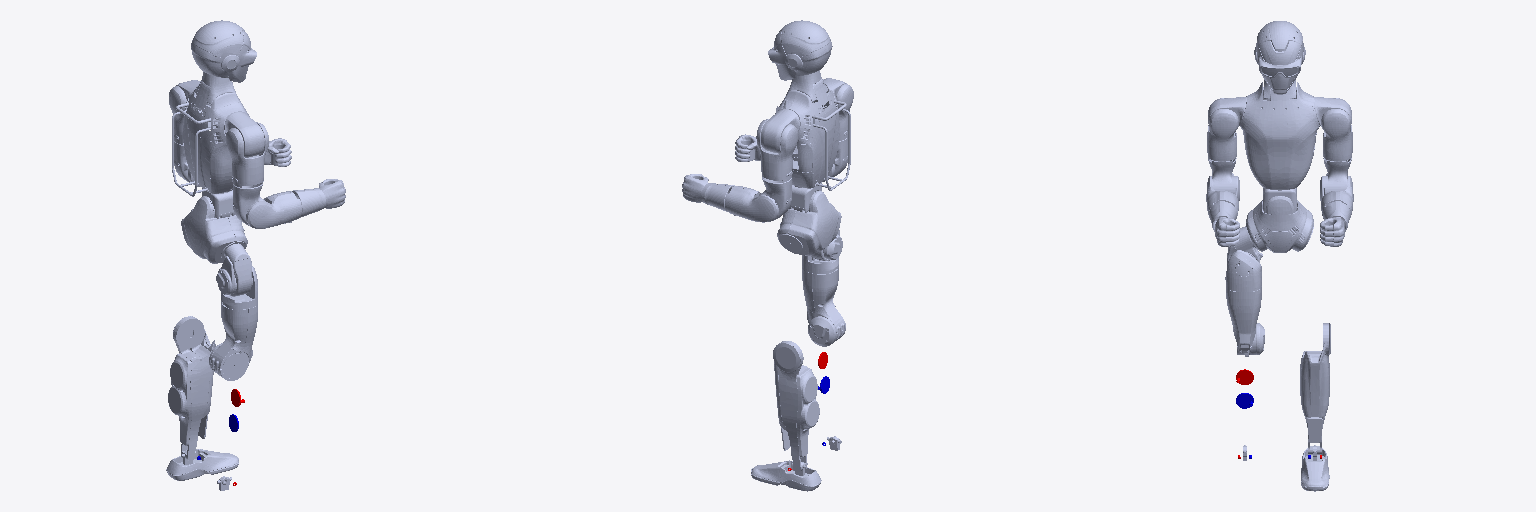
--- Facts derived from the render (not from the file) ---
3 views of the same robot in one strip: view 1: azimuth 30°, elevation 25°; view 2: azimuth 150°, elevation 25°; view 3: azimuth 270°, elevation 25° (orthographic).
Robot: R1 — 40 links, 39 joints (26 revolute, 13 fixed); root link pelvis_link; default pose: all joints at 0.
Visible links, largest first — view 1: waist_yaw_link, left_knee_link, head_yaw_link, pelvis_link, right_hip_yaw_link, right_shoulder_roll_link, right_elbow_link, right_hip_pitch_link, left_ankle_roll_link, right_wrist_roll_link, right_shoulder_pitch_link, right_shoulder_yaw_link (+5 smaller); view 2: waist_yaw_link, left_knee_link, head_yaw_link, pelvis_link, right_hip_yaw_link, left_shoulder_roll_link, left_elbow_link, left_ankle_roll_link, left_wrist_roll_link, left_shoulder_pitch_link, left_shoulder_yaw_link, right_wrist_roll_link (+3 smaller); view 3: waist_yaw_link, pelvis_link, head_yaw_link, left_knee_link, right_hip_yaw_link, left_shoulder_roll_link, right_shoulder_roll_link, right_hip_roll_link, left_wrist_roll_link, right_wrist_roll_link, left_ankle_roll_link, left_shoulder_yaw_link (+3 smaller).
Link boxes in pixels (x1,y1,x2,y2): waist_yaw_link: (172,81,249,196); left_knee_link: (168,316,215,460); head_yaw_link: (191,20,256,82); pelvis_link: (181,196,247,263); right_hip_yaw_link: (209,304,257,380); right_shoulder_roll_link: (226,122,268,187); right_elbow_link: (247,191,301,228); right_hip_pitch_link: (216,243,252,296); left_ankle_roll_link: (166,449,238,480); right_wrist_roll_link: (292,179,345,217); right_shoulder_pitch_link: (224,112,264,157); right_shoulder_yaw_link: (233,181,264,226); waist_yaw_link: (775,79,850,190); left_knee_link: (773,341,819,472); head_yaw_link: (768,20,832,80); pelvis_link: (777,191,841,255); right_hip_yaw_link: (802,268,845,346); left_shoulder_roll_link: (756,119,797,182); left_elbow_link: (725,186,777,222); left_ankle_roll_link: (751,460,821,491); left_wrist_roll_link: (682,174,734,211); left_shoulder_pitch_link: (761,109,799,153); left_shoulder_yaw_link: (759,177,791,220); right_wrist_roll_link: (735,134,760,161); waist_yaw_link: (1240,82,1319,190); pelvis_link: (1246,196,1313,252); head_yaw_link: (1254,21,1305,94); left_knee_link: (1300,323,1330,453); right_hip_yaw_link: (1226,287,1264,356); left_shoulder_roll_link: (1321,98,1352,161); right_shoulder_roll_link: (1207,98,1238,161); right_hip_roll_link: (1225,250,1261,291); left_wrist_roll_link: (1320,201,1350,246); right_wrist_roll_link: (1209,201,1239,246); left_ankle_roll_link: (1301,448,1329,491); left_shoulder_yaw_link: (1320,158,1351,200).
Size in the robot's own frame: 0.3691 by 0.3625 by 1.23 metres.
Meshes: 40 distinct files referenced, 32 mesh visuals loaded (32 binary STL); not drawn: 8 (reference not matched to a file when rendering).

robot.urdf — R1:
<robot name="R1">
  <mujoco>
    <compiler meshdir="meshes" discardvisual="false"/>
  </mujoco>

  <!-- <link name="world"></link>
  <joint name="floating_base_joint" type="floating">
    <parent link="world"/>
    <child link="pelvis_link"/>
  </joint> -->

  <link name="pelvis_link">
    <inertial>
      <origin xyz="0.026921 0.000184 -0.070405" rpy="0 0 0"/>
      <mass value="2.24682"/>
      <inertia ixx="0.006461" ixy="5e-06" ixz="3.7e-05" iyy="0.00381" iyz="-1.2e-05" izz="0.006198"/>
    </inertial>
    <visual>
      <origin xyz="0 0 0" rpy="0 0 0"/>
      <geometry>
        <mesh filename="meshes/pelvis_link.STL"/>
      </geometry>
      <material name="blue">
        <color rgba="0.79216 0.81961 0.93333 1"/>
      </material>
    </visual>
    <collision>
      <origin xyz="0 0 0" rpy="0 0 0"/>
      <geometry>
        <mesh filename="meshes/pelvis_link.STL"/>
      </geometry>
    </collision>
  </link>
  <link name="left_hip_pitch_link">
    <inertial>
      <origin xyz="-0.003907 0.0415 -0.043716" rpy="0 0 0"/>
      <mass value="0.935482"/>
      <inertia ixx=" 0.001046" ixy="2.2e-05" ixz="-3.1e-05" iyy="0.000943" iyz="0.000145" izz="0.000624"/>
    </inertial>
    <visual>
      <origin xyz="0 0 0" rpy="0 0 0"/>
      <geometry>
        <mesh filename="meshes/left_hip_pitch_link.STL"/>
      </geometry>
      <material name="blue">
        <color rgba="0.79216 0.81961 0.93333 1"/>
      </material>
    </visual>
    <collision>
      <origin xyz="0 0 0" rpy="0 0 0"/>
      <geometry>
        <mesh filename="meshes/left_hip_pitch_link.STL"/>
      </geometry>
    </collision>
  </link>
  <joint name="left_hip_pitch_joint" type="revolute">
    <origin xyz="0.0325000000000034 0.0704672446672152 -0.0902350676234607" rpy="-0.436332312998619 0 0"/>
    <parent link="pelvis_link"/>
    <child link="left_hip_pitch_link"/>
    <axis xyz="0 1 0"/>
    <limit lower="-2.932153143" upper="2.548180708" effort="60" velocity="18.8"/>
  </joint>
  <link name="left_hip_roll_link">
    <inertial>
      <origin xyz="-0.008002 -0.00206 -0.032798" rpy="0 0 0"/>
      <mass value=" 0.207609"/>
      <inertia ixx="0.000246" ixy="-1.3e-05" ixz="-5.6e-05" iyy="0.000231" iyz="-1e-05" izz="0.000239"/>
    </inertial>
    <visual>
      <origin xyz="0 0 0" rpy="0 0 0"/>
      <geometry>
        <mesh filename="meshes/left_hip_roll_link.STL"/>
      </geometry>
      <material name="blue">
        <color rgba="0.79216 0.81961 0.93333 1"/>
      </material>
    </visual>
    <collision>
      <origin xyz="0 0 0" rpy="0 0 0"/>
      <geometry>
        <mesh filename="meshes/left_hip_roll_link.STL"/>
      </geometry>
    </collision>
  </link>
  <joint name="left_hip_roll_joint" type="revolute">
    <origin xyz="0.0248000000000053 0.0449999999999981 -0.0530000000000006" rpy="0.436332312998619 0 0"/>
    <parent link="left_hip_pitch_link"/>
    <child link="left_hip_roll_link"/>
    <axis xyz="1 0 0"/>
    <limit lower="-1.047197551" upper="1.745329252" effort="60" velocity="18.8"/>
  </joint>
  <link name="left_hip_yaw_link">
    <inertial>
      <origin xyz="-0.010059 -0.004848 -0.093609" rpy="0 0 0"/>
      <mass value="1.73967"/>
      <inertia ixx="0.008099" ixy=" -0.000112" ixz="-0.001134" iyy="0.008338" iyz="-0.00058" izz="0.001513"/>
    </inertial>
    <visual>
      <origin xyz="0 0 0" rpy="0 0 0"/>
      <geometry>
        <mesh filename="meshes/left_hip_yaw_link.STL"/>
      </geometry>
      <material name="blue">
        <color rgba="0.79216 0.81961 0.93333 1"/>
      </material>
    </visual>
    <collision>
      <origin xyz="0 0 0" rpy="0 0 0"/>
      <geometry>
        <mesh filename="meshes/left_hip_yaw_link.STL"/>
      </geometry>
    </collision>
  </link>
  <joint name="left_hip_yaw_joint" type="revolute">
    <origin xyz="-0.0194507071014726 -0.000599999999990775 -0.0617999999999937" rpy="0 0 0"/>
    <parent link="left_hip_roll_link"/>
    <child link="left_hip_yaw_link"/>
    <axis xyz="0 0 1"/>
    <limit lower="-2.7402" upper="2.7402" effort="60" velocity="18.8"/>
  </joint>
  <link name="left_knee_link">
    <inertial>
      <origin xyz="-0.010632 -0.018101 -0.135947" rpy="0 0 0"/>
      <mass value="2.26585"/>
      <inertia ixx="0.01237" ixy="-4.4e-05" ixz="-0.000238" iyy="0.012604" iyz=" -0.000603" izz=" 0.001907"/>
    </inertial>
    <visual>
      <origin xyz="0 0 0" rpy="0 0 0"/>
      <geometry>
        <mesh filename="meshes/left_knee_link.STL"/>
      </geometry>
      <material name="blue">
        <color rgba="0.79216 0.81961 0.93333 1"/>
      </material>
    </visual>
    <collision>
      <origin xyz="0 0 0" rpy="0 0 0"/>
      <geometry>
        <mesh filename="meshes/left_knee_collision.STL"/>
      </geometry>
    </collision>
  </link>
  <joint name="left_knee_joint" type="revolute">
    <origin xyz="-0.0231499999999827 0.0186600000000101 -0.159300730044995" rpy="0 0 0"/>
    <parent link="left_hip_yaw_link"/>
    <child link="left_knee_link"/>
    <axis xyz="0 1 0"/>
    <limit lower="-0.174532925" upper="2.42600766" effort="60" velocity="18.8"/>
  </joint>
  <link name="left_ankle_A_link">
    <inertial>
      <origin xyz="0.002876 0.004712 -0.001192" rpy="0 0 0"/>
      <mass value="0.047549"/>
      <inertia ixx="1.4e-05" ixy="0" ixz="0" iyy="6e-06" iyz="1e-06" izz="9e-06"/>
    </inertial>
    <visual>
      <origin xyz="0 0 0" rpy="0 0 0"/>
      <geometry>
        <mesh filename="meshes/left_ankle_A_link.STL"/>
      </geometry>
      <material name="A">
        <color rgba="1 0 0 1"/>
      </material>
    </visual>
    <collision>
      <origin xyz="0 0 0" rpy="0 0 0"/>
      <geometry>
        <mesh filename="meshes/left_ankle_A_link.STL"/>
      </geometry>
    </collision>
  </link>
  <joint name="left_ankle_A_joint" type="fixed">
    <origin xyz="0.0137908367226444 -0.020581073000019 -0.0965262033774272" rpy="0 0.0893608577021168 0"/>
    <parent link="left_knee_link"/>
    <child link="left_ankle_A_link"/>
    <axis xyz="1 0 0"/>
    <limit lower="-0.89675" upper="1.4099" effort="33" velocity="33.4"/>
  </joint>
  <link name="left_ankle_A_rod_link">
    <inertial>
      <origin xyz="0 0 0" rpy="0 0 0"/>
      <mass value="0.006909"/>
      <inertia ixx="1e-11" ixy="0" ixz="0" iyy="1e-11" iyz="0" izz="1e-11"/>
    </inertial>
    <visual>
      <origin xyz="0 0 0" rpy="0 0 0"/>
      <geometry>
        <mesh filename="meshes/left_ankle_A_rod_link.STL"/>
      </geometry>
      <material name="A">
        <color rgba="1 0 0 1"/>
      </material>
    </visual>
  </link>
  <joint name="left_ankle_A_rod_joint" type="fixed">
    <origin xyz="0.0129999999999986 0.0159961931559284 -0.00404620865977823" rpy="0 0 0"/>
    <parent link="left_ankle_A_link"/>
    <child link="left_ankle_A_rod_link"/>
    <axis xyz="1 0 0"/>
    <limit lower="0" upper="0" effort="0" velocity="0"/>
  </joint>
  <link name="left_ankle_B_link">
    <inertial>
      <origin xyz="0.002876 -0.004711 -0.001195" rpy="0 0 0"/>
      <mass value="0.047549"/>
      <inertia ixx="1.4e-05" ixy="0" ixz="0" iyy="6e-06" iyz="-1e-06" izz=" 9e-06"/>
    </inertial>
    <visual>
      <origin xyz="0 0 0" rpy="0 0 0"/>
      <geometry>
        <mesh filename="meshes/left_ankle_B_link.STL"/>
      </geometry>
      <material name="B">
        <color rgba="0 0 1 1"/>
      </material>
    </visual>
    <collision>
      <origin xyz="0 0 0" rpy="0 0 0"/>
      <geometry>
        <mesh filename="meshes/left_ankle_B_link.STL"/>
      </geometry>
    </collision>
  </link>
  <joint name="left_ankle_B_joint" type="fixed">
    <origin xyz="0.0078562453629065 -0.0205810730000191 -0.162760866676519" rpy="0 0.0893608577021174 0"/>
    <parent link="left_knee_link"/>
    <child link="left_ankle_B_link"/>
    <axis xyz="1 0 0"/>
    <limit lower="-1.3999" upper="0.92328" effort="33" velocity="33.4"/>
  </joint>
  <link name="left_ankle_B_rod_link">
    <inertial>
      <origin xyz="0 0 0" rpy="0 0 0"/>
      <mass value="0.006909"/>
      <inertia ixx="1e-11" ixy="0" ixz="0" iyy="1e-11" iyz="0" izz="1e-11"/>
    </inertial>
    <visual>
      <origin xyz="0 0 0" rpy="0 0 0"/>
      <geometry>
        <mesh filename="meshes/left_ankle_B_rod_link.STL"/>
      </geometry>
      <material name="B">
        <color rgba="0 0 1 1"/>
      </material>
    </visual>
  </link>
  <joint name="left_ankle_B_rod_joint" type="fixed">
    <origin xyz="0.0129999999999971 -0.0159932565774738 -0.00405780039512127" rpy="0 0 0"/>
    <parent link="left_ankle_B_link"/>
    <child link="left_ankle_B_rod_link"/>
    <axis xyz="1 0 0"/>
    <limit lower="0" upper="0" effort="0" velocity="0"/>
  </joint>
  <link name="left_ankle_pitch_link">
    <inertial>
      <origin xyz="-0.000104 0 -0.00772" rpy="0 0 0"/>
      <mass value="0.071231"/>
      <inertia ixx="7e-06" ixy="0" ixz="0" iyy="1.2e-05" iyz="0" izz="7e-06"/>
    </inertial>
    <visual>
      <origin xyz="0 0 0" rpy="0 0 0"/>
      <geometry>
        <mesh filename="meshes/left_ankle_pitch_link.STL"/>
      </geometry>
      <material name="blue">
        <color rgba="0.79216 0.81961 0.93333 1"/>
      </material>
    </visual>
  </link>
  <joint name="left_ankle_pitch_joint" type="revolute">
    <origin xyz="-0.0168138890944356 -0.0205810730000241 -0.309174756016388" rpy="0 0 0"/>
    <parent link="left_knee_link"/>
    <child link="left_ankle_pitch_link"/>
    <axis xyz="0 1 0"/>
    <limit lower="-0.87266" upper="0.57596" effort="50" velocity="30"/>
  </joint>
  <link name="left_ankle_roll_link">
    <inertial>
      <origin xyz="0.029823 0 -0.033123" rpy="0 0 0"/>
      <mass value="0.473048"/>
      <inertia ixx="0.000232" ixy="0" ixz="8.9e-05" iyy="0.001207" iyz="0" izz="0.001259"/>
    </inertial>
    <visual>
      <origin xyz="0 0 0" rpy="0 0 0"/>
      <geometry>
        <mesh filename="meshes/left_ankle_roll_link.STL"/>
      </geometry>
      <material name="blue">
        <color rgba="0.79216 0.81961 0.93333 1"/>
      </material>
    </visual>
    <collision>
      <origin xyz="0 0 0" rpy="0 0 0"/>
      <geometry>
        <mesh filename="meshes/left_ankle_roll_link.STL"/>
      </geometry>
    </collision>
  </link>
  <joint name="left_ankle_roll_joint" type="revolute">
    <origin xyz="0 0 0" rpy="0 0 0"/>
    <parent link="left_ankle_pitch_link"/>
    <child link="left_ankle_roll_link"/>
    <axis xyz="1 0 0"/>
    <limit lower="-0.2618" upper="0.2618" effort="50" velocity="30"/>
  </joint>
  <link name="left_ankle_constraint_A_link">
    <inertial>
      <origin xyz="0 0 0" rpy="0 0 0"/>
      <mass value="0.00432"/>
      <inertia ixx="1e-11" ixy="0" ixz="0" iyy="1e-11" iyz="0" izz="1e-11"/>
    </inertial>
    <visual>
      <origin xyz="0 0 0" rpy="0 0 0"/>
      <geometry>
        <mesh filename="meshes/left_ankle_constraint_A_link.STL"/>
      </geometry>
      <material name="A">
        <color rgba="1 0 0 1"/>
      </material>
    </visual>
    <collision>
      <origin xyz="0 0 0" rpy="0 0 0"/>
      <geometry>
        <mesh filename="meshes/left_ankle_constraint_A_link.STL"/>
      </geometry>
    </collision>
  </link>
  <joint name="left_ankle_constraint_A_joint" type="fixed">
    <origin xyz="0.021 0.014 -0.0094" rpy="0 0 0"/>
    <parent link="left_ankle_roll_link"/>
    <child link="left_ankle_constraint_A_link"/>
    <axis xyz="0 1 0"/>
    <limit lower="0" upper="0" effort="0" velocity="0"/>
  </joint>
  <link name="left_ankle_constraint_B_link">
    <inertial>
      <origin xyz="0 0 0" rpy="0 0 0"/>
      <mass value="0.00432"/>
      <inertia ixx="1e-11" ixy="0" ixz="0" iyy="1e-11" iyz="0" izz="1e-11"/>
    </inertial>
    <visual>
      <origin xyz="0 0 0" rpy="0 0 0"/>
      <geometry>
        <mesh filename="meshes/left_ankle_constraint_B_link.STL"/>
      </geometry>
      <material name="B">
        <color rgba="0 0 1 1"/>
      </material>
    </visual>
    <collision>
      <origin xyz="0 0 0" rpy="0 0 0"/>
      <geometry>
        <mesh filename="meshes/left_ankle_constraint_B_link.STL"/>
      </geometry>
    </collision>
  </link>
  <joint name="left_ankle_constraint_B_joint" type="fixed">
    <origin xyz="0.021 -0.014 -0.0094" rpy="0 0 0"/>
    <parent link="left_ankle_roll_link"/>
    <child link="left_ankle_constraint_B_link"/>
    <axis xyz="0 1 0"/>
    <limit lower="0" upper="0" effort="0" velocity="0"/>
  </joint>
  <link name="right_hip_pitch_link">
    <inertial>
      <origin xyz="-0.003907 -0.0415 -0.043716" rpy="0 0 0"/>
      <mass value="0.935482"/>
      <inertia ixx=" 0.001046" ixy="-2.2e-05" ixz="-3.1e-05" iyy="0.000943" iyz="-0.000145" izz="0.000624"/>
    </inertial>
    <visual>
      <origin xyz="0 0 0" rpy="0 0 0"/>
      <geometry>
        <mesh filename="meshes/right_hip_pitch_link.STL"/>
      </geometry>
      <material name="blue">
        <color rgba="0.79216 0.81961 0.93333 1"/>
      </material>
    </visual>
    <collision>
      <origin xyz="0 0 0" rpy="0 0 0"/>
      <geometry>
        <mesh filename="meshes/right_hip_pitch_link.STL"/>
      </geometry>
    </collision>
  </link>
  <joint name="right_hip_pitch_joint" type="revolute">
    <origin xyz="0.0324999999999944 -0.0704672446672271 -0.0902350676234561" rpy="0.436332312998556 0 0"/>
    <parent link="pelvis_link"/>
    <child link="right_hip_pitch_link"/>
    <axis xyz="0 1 0"/>
    <limit lower="-2.932153143" upper="2.548180708" effort="60" velocity="18.8"/>
  </joint>
  <link name="right_hip_roll_link">
    <inertial>
      <origin xyz="-0.008002 0.00206 -0.032798" rpy="0 0 0"/>
      <mass value=" 0.207609"/>
      <inertia ixx="0.000246" ixy="1.3e-05" ixz="-5.6e-05" iyy="0.000231" iyz="1e-05" izz="0.000239"/>
    </inertial>
    <visual>
      <origin xyz="0 0 0" rpy="0 0 0"/>
      <geometry>
        <mesh filename="meshes/right_hip_roll_link.STL"/>
      </geometry>
      <material name="blue">
        <color rgba="0.79216 0.81961 0.93333 1"/>
      </material>
    </visual>
    <collision>
      <origin xyz="0 0 0" rpy="0 0 0"/>
      <geometry>
        <mesh filename="meshes/right_hip_roll_link.STL"/>
      </geometry>
    </collision>
  </link>
  <joint name="right_hip_roll_joint" type="revolute">
    <origin xyz="0.0248000000000144 -0.044999999999989 -0.0530000000000113" rpy="-0.436332312998556 0 0"/>
    <parent link="right_hip_pitch_link"/>
    <child link="right_hip_roll_link"/>
    <axis xyz="1 0 0"/>
    <limit lower="-1.745329252" upper="1.047197551" effort="60" velocity="18.8"/>
  </joint>
  <link name="right_hip_yaw_link">
    <inertial>
      <origin xyz="-0.010059 0.004848 -0.093609" rpy="0 0 0"/>
      <mass value="1.73967"/>
      <inertia ixx="0.008099" ixy=" 0.000112" ixz="-0.001134" iyy="0.008338" iyz="0.00058" izz="0.001513"/>
    </inertial>
    <visual>
      <origin xyz="0 0 0" rpy="0 0 0"/>
      <geometry>
        <mesh filename="meshes/right_hip_yaw_link.STL"/>
      </geometry>
      <material name="blue">
        <color rgba="0.79216 0.81961 0.93333 1"/>
      </material>
    </visual>
    <collision>
      <origin xyz="0 0 0" rpy="0 0 0"/>
      <geometry>
        <mesh filename="meshes/right_hip_yaw_link.STL"/>
      </geometry>
    </collision>
  </link>
  <joint name="right_hip_yaw_joint" type="revolute">
    <origin xyz="-0.0194507071014726 0.000599999999990622 -0.0617999999999935" rpy="0 0 0"/>
    <parent link="right_hip_roll_link"/>
    <child link="right_hip_yaw_link"/>
    <axis xyz="0 0 1"/>
    <limit lower="-2.7402" upper="2.7402" effort="60" velocity="18.8"/>
  </joint>
  <link name="right_knee_link">
    <inertial>
      <origin xyz="-0.010632 0.018101 -0.135947" rpy="0 0 0"/>
      <mass value="2.26585"/>
      <inertia ixx="0.01237" ixy="4.4e-05" ixz="-0.000238" iyy="0.012604" iyz=" 0.000603" izz=" 0.001907"/>
    </inertial>
    <visual>
      <origin xyz="0 0 0" rpy="0 0 0"/>
      <geometry>
        <mesh filename="meshes/right_knee_link.STL"/>
      </geometry>
      <material name="blue">
        <color rgba="0.79216 0.81961 0.93333 1"/>
      </material>
    </visual>
    <collision>
      <origin xyz="0 0 0" rpy="0 0 0"/>
      <geometry>
        <mesh filename="meshes/right_knee_collision.STL"/>
      </geometry>
    </collision>
  </link>
  <joint name="right_knee_joint" type="revolute">
    <origin xyz="-0.0231499999999827 -0.0186600000000101 -0.159300730044995" rpy="0 0 0"/>
    <parent link="right_hip_yaw_link"/>
    <child link="right_knee_link"/>
    <axis xyz="0 1 0"/>
    <limit lower="-0.17453" upper="2.42600766" effort="60" velocity="18.8"/>
  </joint>
  <link name="right_ankle_A_link">
    <inertial>
      <origin xyz="0.002876 -0.004712 -0.001192" rpy="0 0 0"/>
      <mass value="0.047549"/>
      <inertia ixx="1.4e-05" ixy="0" ixz="0" iyy="6e-06" iyz="-1e-06" izz="9e-06"/>
    </inertial>
    <visual>
      <origin xyz="0 0 0" rpy="0 0 0"/>
      <geometry>
        <mesh filename="meshes/right_ankle_A_link.STL"/>
      </geometry>
      <material name="A">
        <color rgba="1 0 0 1"/>
      </material>
    </visual>
    <collision>
      <origin xyz="0 0 0" rpy="0 0 0"/>
      <geometry>
        <mesh filename="meshes/right_ankle_A_link.STL"/>
      </geometry>
    </collision>
  </link>
  <joint name="right_ankle_A_joint" type="fixed">
    <origin xyz="0.0137908367226438 0.0205810730000096 -0.0965262033774182" rpy="0 0.0893608577021168 0"/>
    <parent link="right_knee_link"/>
    <child link="right_ankle_A_link"/>
    <axis xyz="1 0 0"/>
    <limit lower="-1.4099" upper="0.89675" effort="33" velocity="33.4"/>
  </joint>
  <link name="right_ankle_A_rod_link">
    <inertial>
      <origin xyz="0 0 0" rpy="0 0 0"/>
      <mass value="0.006909"/>
      <inertia ixx="1e-11" ixy="0" ixz="0" iyy="1e-11" iyz="0" izz="1e-11"/>
    </inertial>
    <visual>
      <origin xyz="0 0 0" rpy="0 0 0"/>
      <geometry>
        <mesh filename="meshes/right_ankle_A_rod_link.STL"/>
      </geometry>
      <material name="A">
        <color rgba="1 0 0 1"/>
      </material>
    </visual>
  </link>
  <joint name="right_ankle_A_rod_joint" type="fixed">
    <origin xyz="0.0130000000000001 -0.0159961931559189 -0.00404620865978778" rpy="0 0 0"/>
    <parent link="right_ankle_A_link"/>
    <child link="right_ankle_A_rod_link"/>
    <axis xyz="1 0 0"/>
    <limit lower="0" upper="0" effort="0" velocity="0"/>
  </joint>
  <link name="right_ankle_B_link">
    <inertial>
      <origin xyz="0.002876 0.004711 -0.001195" rpy="0 0 0"/>
      <mass value="0.047549"/>
      <inertia ixx="1.4e-05" ixy="0" ixz="0" iyy="6e-06" iyz="1e-06" izz=" 9e-06"/>
    </inertial>
    <visual>
      <origin xyz="0 0 0" rpy="0 0 0"/>
      <geometry>
        <mesh filename="meshes/right_ankle_B_link.STL"/>
      </geometry>
      <material name="B">
        <color rgba="0 0 1 1"/>
      </material>
    </visual>
    <collision>
      <origin xyz="0 0 0" rpy="0 0 0"/>
      <geometry>
        <mesh filename="meshes/right_ankle_B_link.STL"/>
      </geometry>
    </collision>
  </link>
  <joint name="right_ankle_B_joint" type="fixed">
    <origin xyz="0.00785624536290441 0.0205810730000075 -0.16276086667651" rpy="0 0.0893608577021174 0"/>
    <parent link="right_knee_link"/>
    <child link="right_ankle_B_link"/>
    <axis xyz="1 0 0"/>
    <limit lower="-0.92328" upper="1.3999" effort="33" velocity="33.4"/>
  </joint>
  <link name="right_ankle_B_rod_link">
    <inertial>
      <origin xyz="0 0 0" rpy="0 0 0"/>
      <mass value="0.006909"/>
      <inertia ixx="1e-11" ixy="0" ixz="0" iyy="1e-11" iyz="0" izz="1e-11"/>
    </inertial>
    <visual>
      <origin xyz="0 0 0" rpy="0 0 0"/>
      <geometry>
        <mesh filename="meshes/right_ankle_B_rod_link.STL"/>
      </geometry>
      <material name="B">
        <color rgba="0 0 1 1"/>
      </material>
    </visual>
  </link>
  <joint name="right_ankle_B_rod_joint" type="fixed">
    <origin xyz="0.0130000000000001 0.0159932565774854 -0.00405780039513126" rpy="0 0 0"/>
    <parent link="right_ankle_B_link"/>
    <child link="right_ankle_B_rod_link"/>
    <axis xyz="1 0 0"/>
    <limit lower="0" upper="0" effort="0" velocity="0"/>
  </joint>
  <link name="right_ankle_pitch_link">
    <inertial>
      <origin xyz="-0.000104 0 -0.00772" rpy="0 0 0"/>
      <mass value="0.071231"/>
      <inertia ixx="7e-06" ixy="0" ixz="0" iyy="1.2e-05" iyz="0" izz="7e-06"/>
    </inertial>
    <visual>
      <origin xyz="0 0 0" rpy="0 0 0"/>
      <geometry>
        <mesh filename="meshes/right_ankle_pitch_link.STL"/>
      </geometry>
      <material name="blue">
        <color rgba="0.79216 0.81961 0.93333 1"/>
      </material>
    </visual>
  </link>
  <joint name="right_ankle_pitch_joint" type="revolute">
    <origin xyz="-0.016813889094435 0.0205810729999964 -0.309174756016406" rpy="0 0 0"/>
    <parent link="right_knee_link"/>
    <child link="right_ankle_pitch_link"/>
    <axis xyz="0 1 0"/>
    <limit lower="-0.87266" upper="0.57596" effort="50" velocity="30"/>
  </joint>
  <link name="right_ankle_roll_link">
    <inertial>
      <origin xyz="0.029823 0 -0.033123" rpy="0 0 0"/>
      <mass value="0.473048"/>
      <inertia ixx="0.000232" ixy="0" ixz="8.9e-05" iyy="0.001207" iyz="0" izz="0.001259"/>
    </inertial>
    <visual>
      <origin xyz="0 0 0" rpy="0 0 0"/>
      <geometry>
        <mesh filename="meshes/right_ankle_roll_link.STL"/>
      </geometry>
      <material name="blue">
        <color rgba="0.79216 0.81961 0.93333 1"/>
      </material>
    </visual>
    <collision>
      <origin xyz="0 0 0" rpy="0 0 0"/>
      <geometry>
        <mesh filename="meshes/right_ankle_roll_link.STL"/>
      </geometry>
    </collision>
  </link>
  <joint name="right_ankle_roll_joint" type="revolute">
    <origin xyz="0 0 0" rpy="0 0 0"/>
    <parent link="right_ankle_pitch_link"/>
    <child link="right_ankle_roll_link"/>
    <axis xyz="1 0 0"/>
    <limit lower="-0.261799388" upper="0.261799388" effort="50" velocity="30"/>
  </joint>
  <link name="right_ankle_constraint_A_link">
    <inertial>
      <origin xyz="0 0 0" rpy="0 0 0"/>
      <mass value="0.00432"/>
      <inertia ixx="1e-11" ixy="0" ixz="0" iyy="1e-11" iyz="0" izz="1e-11"/>
    </inertial>
    <visual>
      <origin xyz="0 0 0" rpy="0 0 0"/>
      <geometry>
        <mesh filename="meshes/right_ankle_constraint_A_link.STL"/>
      </geometry>
      <material name="A">
        <color rgba="1 0 0 1"/>
      </material>
    </visual>
    <collision>
      <origin xyz="0 0 0" rpy="0 0 0"/>
      <geometry>
        <mesh filename="meshes/right_ankle_constraint_A_link.STL"/>
      </geometry>
    </collision>
  </link>
  <joint name="right_ankle_constraint_A_joint" type="fixed">
    <origin xyz="0.021 -0.014 -0.0094" rpy="0 0 0"/>
    <parent link="right_ankle_roll_link"/>
    <child link="right_ankle_constraint_A_link"/>
    <axis xyz="0 1 0"/>
    <limit lower="0" upper="0" effort="0" velocity="0"/>
  </joint>
  <link name="right_ankle_constraint_B_link">
    <inertial>
      <origin xyz="0 0 0" rpy="0 0 0"/>
      <mass value="0.00432"/>
      <inertia ixx="1e-11" ixy="0" ixz="0" iyy="1e-11" iyz="0" izz="1e-11"/>
    </inertial>
    <visual>
      <origin xyz="0 0 0" rpy="0 0 0"/>
      <geometry>
        <mesh filename="meshes/right_ankle_constraint_B_link.STL"/>
      </geometry>
      <material name="B">
        <color rgba="0 0 1 1"/>
      </material>
    </visual>
    <collision>
      <origin xyz="0 0 0" rpy="0 0 0"/>
      <geometry>
        <mesh filename="meshes/right_ankle_constraint_B_link.STL"/>
      </geometry>
    </collision>
  </link>
  <joint name="right_ankle_constraint_B_joint" type="fixed">
    <origin xyz="0.021 0.014 -0.0094" rpy="0 0 0"/>
    <parent link="right_ankle_roll_link"/>
    <child link="right_ankle_constraint_B_link"/>
    <axis xyz="0 1 0"/>
    <limit lower="0" upper="0" effort="0" velocity="0"/>
  </joint>
  <link name="imu_in_pelvis_link">
    <inertial>
      <origin xyz="-0.001988 0.000572 0.014086" rpy="0 0 0"/>
      <mass value="0.00319"/>
      <inertia ixx="7.6e-07" ixy="0" ixz="0" iyy="3.9e-07" iyz="0" izz="3.8e-07"/>
    </inertial>
    <visual>
      <origin xyz="0 0 0" rpy="0 0 0"/>
      <geometry>
        <mesh filename="meshes/imu_in_pelvis_link.STL"/>
      </geometry>
      <material name="blue">
        <color rgba="0.79216 0.81961 0.93333 1"/>
      </material>
    </visual>
    <collision>
      <origin xyz="0 0 0" rpy="0 0 0"/>
      <geometry>
        <mesh filename="meshes/imu_in_pelvis_link.STL"/>
      </geometry>
    </collision>
  </link>
  <joint name="imu_in_pelvis_joint" type="fixed">
    <origin xyz="0.0762024823417637 2.19914456711555E-05 -0.0884314643766222" rpy="0 0 0"/>
    <parent link="pelvis_link"/>
    <child link="imu_in_pelvis_link"/>
    <axis xyz="1 0 0"/>
    <limit lower="0" upper="0" effort="0" velocity="0"/>
  </joint>


  <!-- torso and arms -->
  <link name="waist_roll_link">
    <inertial>
      <origin xyz="0.030601 0 0.004788" rpy="0 0 0"/>
      <mass value="0.920736"/>
      <inertia ixx="0.000806" ixy="0" ixz="1e-06" iyy=" 0.000734" iyz="0" izz="0.000678"/>
    </inertial>
    <visual>
      <origin xyz="0.0325 0 0.049" rpy="0 0 0"/>
      <geometry>
        <mesh filename="meshes/waist_roll_link.STL"/>
      </geometry>
      <material name="blue">
        <color rgba="0.79216 0.81961 0.93333 1"/>
      </material>
    </visual>
    <collision>
      <origin xyz="0.0325 0 0.049" rpy="0 0 0"/>
      <geometry>
        <mesh filename="meshes/waist_roll_link.STL"/>
      </geometry>
    </collision>
  </link>
  <joint name="waist_roll_joint" type="revolute">
    <origin xyz="0 0 0" rpy="0 0 0"/>
    <parent link="pelvis_link"/>
    <child link="waist_roll_link"/>
    <axis xyz="1 0 0"/>
    <limit lower="-0.5236" upper="0.5236" effort="60" velocity="18.8"/>
  </joint>
  <link name="waist_yaw_link">
    <inertial>
      <origin xyz="-0.000648 -0.000052  0.144497" rpy="0 0 0"/>
      <mass value="6.024198"/>
      <inertia ixx="0.060949" ixy="-0.000060" ixz="0.001044" iyy="0.050645" iyz="-0.000164" izz="0.024602"/>
    </inertial>
    <visual>
      <origin xyz="0 0 0" rpy="0 0 0"/>
      <geometry>
        <mesh filename="meshes/waist_yaw_link.STL"/>
      </geometry>
      <material name="blue">
        <color rgba="0.79216 0.81961 0.93333 1"/>
      </material>
    </visual>
    <collision>
      <origin xyz="0 0 0" rpy="0 0 0"/>
      <geometry>
        <mesh filename="meshes/waist_yaw_link.STL"/>
      </geometry>
    </collision>
  </link>
  <joint name="waist_yaw_joint" type="revolute">
    <origin xyz="0.0325 0 0.049" rpy="0 0 0"/>
    <parent link="waist_roll_link"/>
    <child link="waist_yaw_link"/>
    <axis xyz="0 0 1"/>
    <limit lower="-2.618" upper="2.618" effort="60" velocity="18.8"/>
  </joint>
  <link name="left_shoulder_pitch_link">
    <inertial>
      <origin xyz="0.00294386 0.04476868 -0.02286868" rpy="0 0 0"/>
      <mass value="0.83794992"/>
      <inertia ixx="0.00066072" ixy="-0.00000492" ixz="0.00001580" iyy="0.00060170" iyz="0.00005557" izz="0.00057741"/>
    </inertial>
    <visual>
      <origin xyz="0 0 0" rpy="0 0 0"/>
      <geometry>
        <mesh filename="meshes/left_shoulder_pitch_link.STL"/>
      </geometry>
      <material name="blue">
        <color rgba="0.79216 0.81961 0.93333 1"/>
      </material>
    </visual>
    <collision>
      <origin xyz="0 0 0" rpy="0 0 0"/>
      <geometry>
        <mesh filename="meshes/left_shoulder_pitch_link.STL"/>
      </geometry>
    </collision>
  </link>
  <joint name="left_shoulder_pitch_joint" type="revolute">
    <origin xyz="0 0.085688 0.19749" rpy="0.26187 0 0"/>
    <parent link="waist_yaw_link"/>
    <child link="left_shoulder_pitch_link"/>
    <axis xyz="0 1 0"/>
    <limit lower="-3.1416" upper="2.0944" effort="60" velocity="18.8"/>
  </joint>
  <link name="left_shoulder_roll_link">
    <inertial>
      <origin xyz="-0.037828 0.003967 -0.066496" rpy="0 0 0"/>
      <mass value="0.740212"/>
      <inertia ixx="0.000971" ixy="-0.000004" ixz="0.000101" iyy="0.001089" iyz="0.000022" izz="0.000573"/>
    </inertial>
    <visual>
      <origin xyz="0 0 0" rpy="0 0 0"/>
      <geometry>
        <mesh filename="meshes/left_shoulder_roll_link.STL"/>
      </geometry>
      <material name="blue">
        <color rgba="0.79216 0.81961 0.93333 1"/>
      </material>
    </visual>
    <collision>
      <origin xyz="0 0 0" rpy="0 0 0"/>
      <geometry>
        <mesh filename="meshes/left_shoulder_roll_link.STL"/>
      </geometry>
    </collision>
  </link>
  <joint name="left_shoulder_roll_joint" type="revolute">
    <origin xyz="0.03445 0.047132 -0.025693" rpy="-0.26187 0 0"/>
    <parent link="left_shoulder_pitch_link"/>
    <child link="left_shoulder_roll_link"/>
    <axis xyz="1 0 0"/>
    <limit lower="-0.22689" upper="2.4784" effort="60" velocity="18.8"/>
  </joint>
  <link name="left_shoulder_yaw_link">
    <inertial>
      <origin xyz="0.013143 -0.004355 -0.072948" rpy="0 0 0"/>
      <mass value="0.738441"/>
      <inertia ixx="0.000829" ixy="0.000015" ixz="0.000108" iyy="0.000852" iyz="-0.000035" izz="0.000469"/>
    </inertial>
    <visual>
      <origin xyz="0 0 0" rpy="0 0 0"/>
      <geometry>
        <mesh filename="meshes/left_shoulder_yaw_link.STL"/>
      </geometry>
      <material name="blue">
        <color rgba="0.79216 0.81961 0.93333 1"/>
      </material>
    </visual>
    <collision>
      <origin xyz="0 0 0" rpy="0 0 0"/>
      <geometry>
        <mesh filename="meshes/left_shoulder_yaw_link.STL"/>
      </geometry>
    </collision>
  </link>
  <joint name="left_shoulder_yaw_joint" type="revolute">
    <origin xyz="-0.03445 0.0043 -0.10835" rpy="0 0 0"/>
    <parent link="left_shoulder_roll_link"/>
    <child link="left_shoulder_yaw_link"/>
    <axis xyz="0 0 1"/>
    <limit lower="-1.9199" upper="1.9199" effort="33" velocity="33.4"/>
  </joint>
  <link name="left_elbow_link">
    <inertial>
      <origin xyz="0.072371  -0.024612 -0.011566" rpy="0 0 0"/>
      <mass value="0.759419"/>
      <inertia ixx="0.000550" ixy="0.000179" ixz="0.000030" iyy="0.000892" iyz="-0.000017" izz="0.000936"/>
    </inertial>
    <visual>
      <origin xyz="0 0 0" rpy="0 0 0"/>
      <geometry>
        <mesh filename="meshes/left_elbow_link.STL"/>
      </geometry>
      <material name="blue">
        <color rgba="0.79216 0.81961 0.93333 1"/>
      </material>
    </visual>
    <collision>
      <origin xyz="0 0 0" rpy="0 0 0"/>
      <geometry>
        <mesh filename="meshes/left_elbow_link.STL"/>
      </geometry>
    </collision>
  </link>
  <joint name="left_elbow_joint" type="revolute">
    <origin xyz="0.016191 0.026461 -0.082858" rpy="0 0 0"/>
    <parent link="left_shoulder_yaw_link"/>
    <child link="left_elbow_link"/>
    <axis xyz="0 1 0"/>
    <limit lower="-0.97564" upper="2.1852" effort="33" velocity="33.4"/>
  </joint>
  <link name="left_wrist_roll_link">
    <inertial>
      <origin xyz="0.068045 -0.001688 0.001392" rpy="0 0 0"/>
      <mass value="0.324767"/>
      <inertia ixx="0.000158" ixy="0.000023" ixz="-0.000010" iyy="0.000716" iyz="0.000004" izz="0.000705"/>
    </inertial>
    <visual>
      <origin xyz="0 0 0" rpy="0 0 0"/>
      <geometry>
        <mesh filename="meshes/left_wrist_roll_link.STL"/>
      </geometry>
      <material name="blue">
        <color rgba="0.79216 0.81961 0.93333 1"/>
      </material>
    </visual>
    <collision>
      <origin xyz="0 0 0" rpy="0 0 0"/>
      <geometry>
        <mesh filename="meshes/left_wrist_roll_link.STL"/>
      </geometry>
    </collision>
  </link>
  <joint name="left_wrist_roll_joint" type="revolute">
    <origin xyz="0.11218 -0.03002 -0.011702" rpy="0 0 0"/>
    <parent link="left_elbow_link"/>
    <child link="left_wrist_roll_link"/>
    <axis xyz="1 0 0"/>
    <limit lower="-1.9199" upper="1.9199" effort="33" velocity="33.4"/>
  </joint>
  <link name="right_shoulder_pitch_link">
    <inertial>
      <origin xyz="0.00294386 -0.04476868 -0.02286868" rpy="0 0 0"/>
      <mass value="0.83794992"/>
      <inertia ixx="0.00066072" ixy="0.00000492" ixz="0.00001580" iyy="0.00060170" iyz="-0.00005557" izz="0.00057741"/>
    </inertial>
    <visual>
      <origin xyz="0 0 0" rpy="0 0 0"/>
      <geometry>
        <mesh filename="meshes/right_shoulder_pitch_link.STL"/>
      </geometry>
      <material name="blue">
        <color rgba="0.79216 0.81961 0.93333 1"/>
      </material>
    </visual>
    <collision>
      <origin xyz="0 0 0" rpy="0 0 0"/>
      <geometry>
        <mesh filename="meshes/right_shoulder_pitch_link.STL"/>
      </geometry>
    </collision>
  </link>
  <joint name="right_shoulder_pitch_joint" type="revolute">
    <origin xyz="0 -0.085688 0.19749" rpy="-0.26187 0 0"/>
    <parent link="waist_yaw_link"/>
    <child link="right_shoulder_pitch_link"/>
    <axis xyz="0 1 0"/>
    <limit lower="-3.1416" upper="2.0944" effort="60" velocity="18.8"/>
  </joint>
  <link name="right_shoulder_roll_link">
    <inertial>
      <origin xyz="-0.037828 -0.003967 -0.066496" rpy="0 0 0"/>
      <mass value="0.740212"/>
      <inertia ixx="0.000971" ixy="0.000004" ixz="0.000101" iyy="0.001089" iyz="-0.000022" izz="0.000573"/>
    </inertial>
    <visual>
      <origin xyz="0 0 0" rpy="0 0 0"/>
      <geometry>
        <mesh filename="meshes/right_shoulder_roll_link.STL"/>
      </geometry>
      <material name="blue">
        <color rgba="0.79216 0.81961 0.93333 1"/>
      </material>
    </visual>
    <collision>
      <origin xyz="0 0 0" rpy="0 0 0"/>
      <geometry>
        <mesh filename="meshes/right_shoulder_roll_link.STL"/>
      </geometry>
    </collision>
  </link>
  <joint name="right_shoulder_roll_joint" type="revolute">
    <origin xyz="0.03445 -0.047132 -0.025693" rpy="0.26187 0 0"/>
    <parent link="right_shoulder_pitch_link"/>
    <child link="right_shoulder_roll_link"/>
    <axis xyz="1 0 0"/>
    <limit lower="-2.47849" upper="0.2268" effort="60" velocity="18.8"/>
  </joint>
  <link name="right_shoulder_yaw_link">
    <inertial>
      <origin xyz="0.013143 0.004355 -0.072948" rpy="0 0 0"/>
      <mass value="0.738441"/>
      <inertia ixx="0.000829" ixy="-0.000015" ixz="0.000108" iyy="0.000852" iyz="0.000035" izz="0.000469"/>
    </inertial>
    <visual>
      <origin xyz="0 0 0" rpy="0 0 0"/>
      <geometry>
        <mesh filename="meshes/right_shoulder_yaw_link.STL"/>
      </geometry>
      <material name="blue">
        <color rgba="0.79216 0.81961 0.93333 1"/>
      </material>
    </visual>
    <collision>
      <origin xyz="0 0 0" rpy="0 0 0"/>
      <geometry>
        <mesh filename="meshes/right_shoulder_yaw_link.STL"/>
      </geometry>
    </collision>
  </link>
  <joint name="right_shoulder_yaw_joint" type="revolute">
    <origin xyz="-0.03445 -0.0043 -0.10835" rpy="0 0 0"/>
    <parent link="right_shoulder_roll_link"/>
    <child link="right_shoulder_yaw_link"/>
    <axis xyz="0 0 1"/>
    <limit lower="-1.9199" upper="1.9199" effort="33" velocity="33.4"/>
  </joint>
  <link name="right_elbow_link">
    <inertial>
      <origin xyz="0.072371  0.024612 -0.011566" rpy="0 0 0"/>
      <mass value="0.759419"/>
      <inertia ixx="0.000550" ixy="-0.000179" ixz="0.000030" iyy="0.000892" iyz="0.000017" izz="0.000936"/>
    </inertial>
    <visual>
      <origin xyz="0 0 0" rpy="0 0 0"/>
      <geometry>
        <mesh filename="meshes/right_elbow_link.STL"/>
      </geometry>
      <material name="blue">
        <color rgba="0.79216 0.81961 0.93333 1"/>
      </material>
    </visual>
    <collision>
      <origin xyz="0 0 0" rpy="0 0 0"/>
      <geometry>
        <mesh filename="meshes/right_elbow_link.STL"/>
      </geometry>
    </collision>
  </link>
  <joint name="right_elbow_joint" type="revolute">
    <origin xyz="0.016191 -0.026461 -0.082858" rpy="0 0 0"/>
    <parent link="right_shoulder_yaw_link"/>
    <child link="right_elbow_link"/>
    <axis xyz="0 1 0"/>
    <limit lower="-0.97564" upper="2.1852" effort="33" velocity="33.4"/>
  </joint>
  <link name="right_wrist_roll_link">
    <inertial>
      <origin xyz="0.068045 0.001688 0.001392" rpy="0 0 0"/>
      <mass value="0.324767"/>
      <inertia ixx="0.000158" ixy="-0.000023" ixz="-0.000010" iyy="0.000716" iyz="-0.000004" izz="0.000705"/>
    </inertial>
    <visual>
      <origin xyz="0 0 0" rpy="0 0 0"/>
      <geometry>
        <mesh filename="meshes/right_wrist_roll_link.STL"/>
      </geometry>
      <material name="blue">
        <color rgba="0.79216 0.81961 0.93333 1"/>
      </material>
    </visual>
    <collision>
      <origin xyz="0 0 0" rpy="0 0 0"/>
      <geometry>
        <mesh filename="meshes/right_wrist_roll_link.STL"/>
      </geometry>
    </collision>
  </link>
  <joint name="right_wrist_roll_joint" type="revolute">
    <origin xyz="0.11218 0.03002 -0.011702" rpy="0 0 0"/>
    <parent link="right_elbow_link"/>
    <child link="right_wrist_roll_link"/>
    <axis xyz="1 0 0"/>
    <limit lower="-1.9199" upper="1.9199" effort="33" velocity="33.4"/>
  </joint>
  <link name="head_pitch_link">
    <inertial>
      <origin xyz="-0.00059489 -0.03725763 0.05301107" rpy="0 0 0"/>
      <mass value="0.39234316"/>
      <inertia ixx="0.00100970" ixy="0.00000093" ixz="0.00001679" iyy="0.00090268" iyz="-0.00014410" izz="0.00031134"/>
    </inertial>
    <visual>
      <origin xyz="0 0 0" rpy="0 0 0"/>
      <geometry>
        <mesh filename="meshes/head_pitch_link.STL"/>
      </geometry>
      <material name="blue">
        <color rgba="0.79216 0.81961 0.93333 1"/>
      </material>
    </visual>
    <collision>
      <origin xyz="0 0 0" rpy="0 0 0"/>
      <geometry>
        <mesh filename="meshes/head_pitch_link.STL"/>
      </geometry>
    </collision>
  </link>
  <joint name="head_pitch_joint" type="revolute">
    <origin xyz="-0.006 0.03155 0.255" rpy="0 0 0"/>
    <parent link="waist_yaw_link"/>
    <child link="head_pitch_link"/>
    <axis xyz="0 1 0"/>
    <limit lower="-0.62832" upper="0.62832" effort="33" velocity="33.4"/>
  </joint>
  <link name="head_yaw_link">
    <inertial>
      <origin xyz="0.01528363  0.00011624 -0.00435893" rpy="0 0 0"/>
      <mass value="0.92216186"/>
      <inertia ixx="0.00187133" ixy="0.00000454" ixz="0.00021689" iyy="0.00230884" iyz="0.00000918" izz="0.00208523"/>
    </inertial>
    <visual>
      <origin xyz="0 0 0" rpy="0 0 0"/>
      <geometry>
        <mesh filename="meshes/head_yaw_link.STL"/>
      </geometry>
      <material name="blue">
        <color rgba="0.79216 0.81961 0.93333 1"/>
      </material>
    </visual>
    <collision>
      <origin xyz="0 0 0" rpy="0 0 0"/>
      <geometry>
        <mesh filename="meshes/head_yaw_link.STL"/>
      </geometry>
    </collision>
  </link>
  <joint name="head_yaw_joint" type="revolute">
    <origin xyz="0.0010126 -0.03155 0.1165" rpy="0 0 0"/>
    <parent link="head_pitch_link"/>
    <child link="head_yaw_link"/>
    <axis xyz="0 0 1"/>
    <limit lower="-2.0071" upper="2.0071" effort="33" velocity="33.4"/>
  </joint>
</robot>
